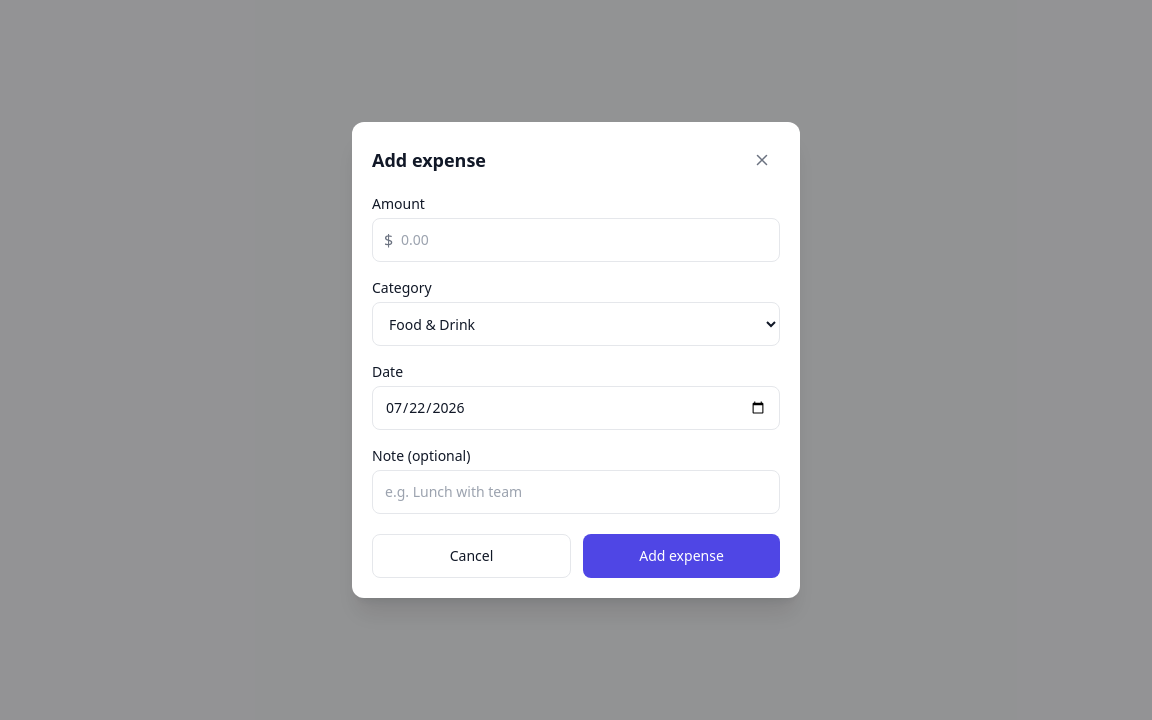
it: ExpenseFormModal — create › keeps the modal open and toasts the error message on failure
Type "15" into the number field labelled "Amount" at {"x": 576, "y": 240}, box [372,218,780,262]
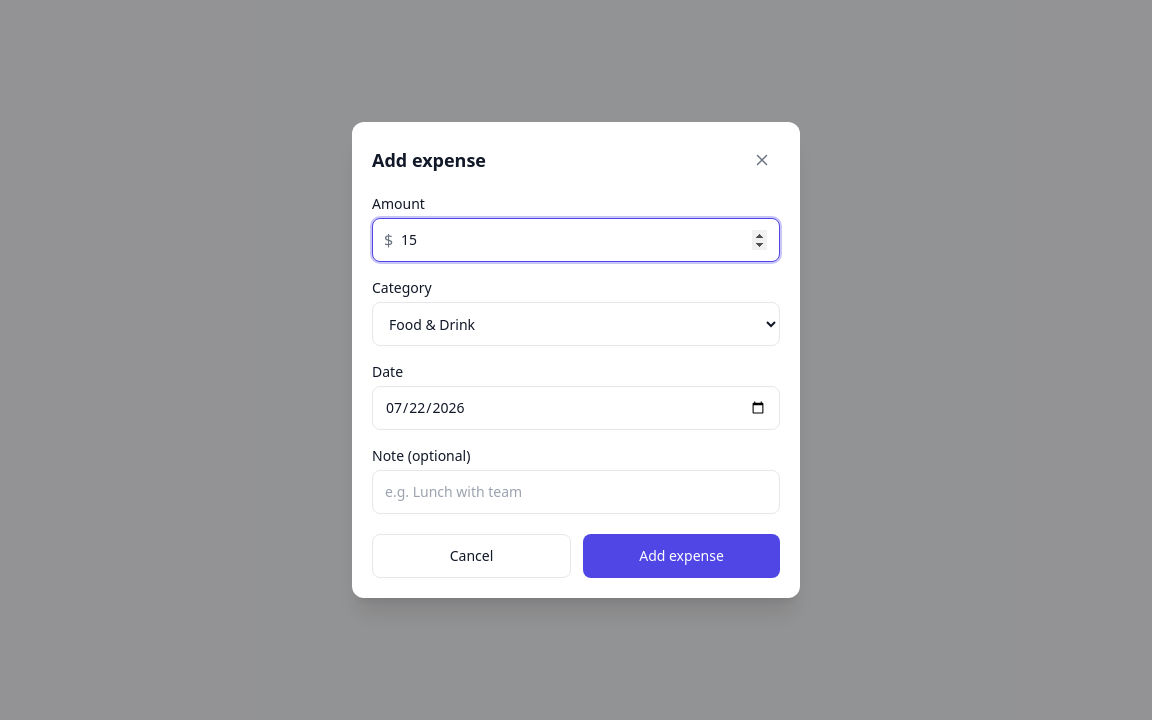
Click the button "Add expense" at {"x": 682, "y": 556}, box [583,534,780,578]
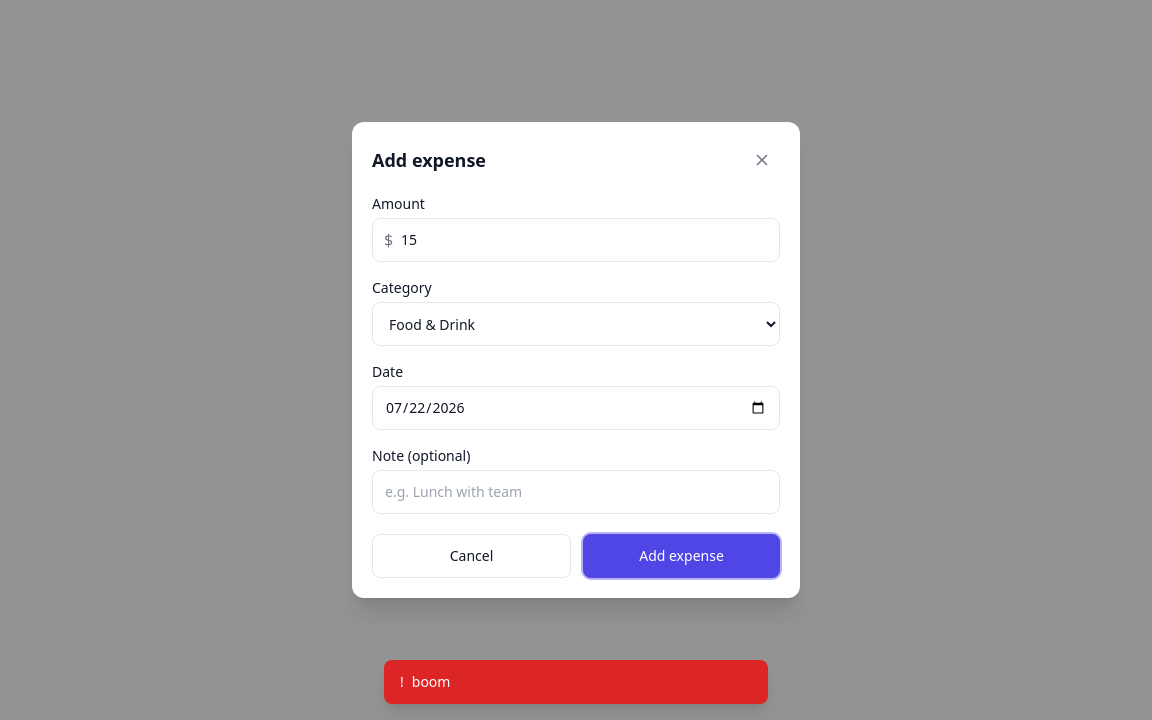
Expected: the text "boom" is shown, [412,672,450,692]
